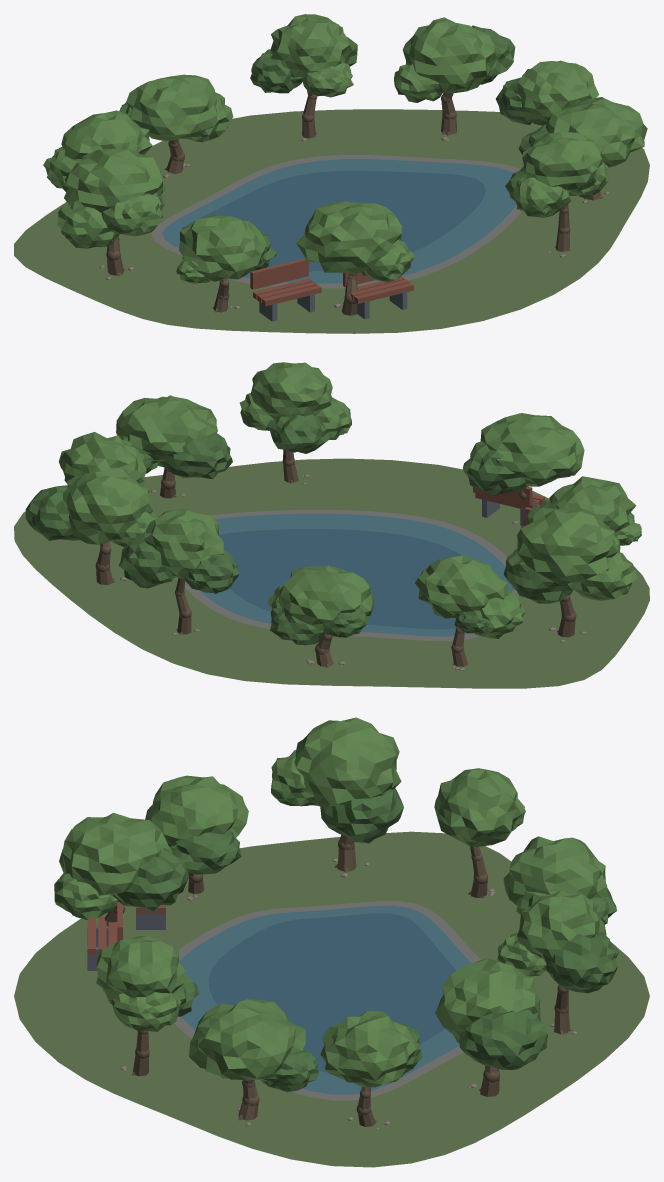
The model's file is civic_pond_lvl1.glb.
3 renders of one model, top to bottom at view 1: azimuth 30°, elevation 25°; view 2: azimuth 150°, elevation 25°; view 3: azimuth 270°, elevation 25°, orthographic. The views are drawn at different scales.
Parts seen in each view (by area): view 1: civic_pond; view 2: civic_pond; view 3: civic_pond.
Part boxes in pixels (x1,y1,x2,y2): civic_pond: [14, 14, 649, 333]; civic_pond: [14, 362, 649, 688]; civic_pond: [14, 717, 649, 1167].
Bounding box in the file's own units: 1 × 0.2008 × 0.8004.
